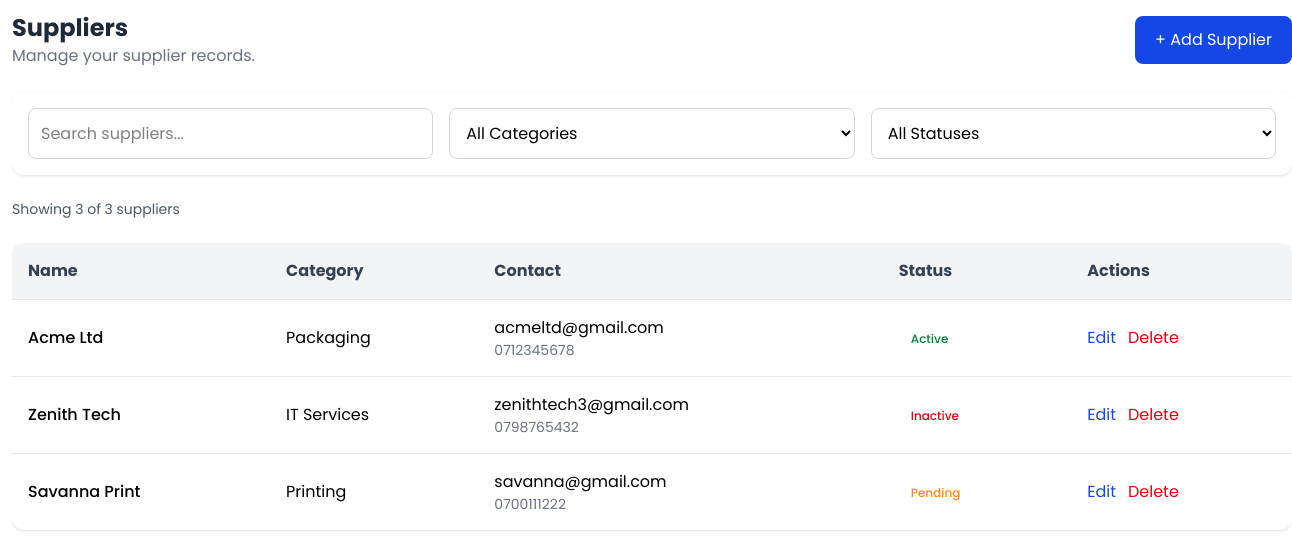
it: Suppliers Page › searches suppliers by email
The width and height of the screenshot is (1292, 548).
Type "zenithtech3@gmail.com" into the search field labelled "Search suppliers..." at point(231, 134), box [28,108,433,159]
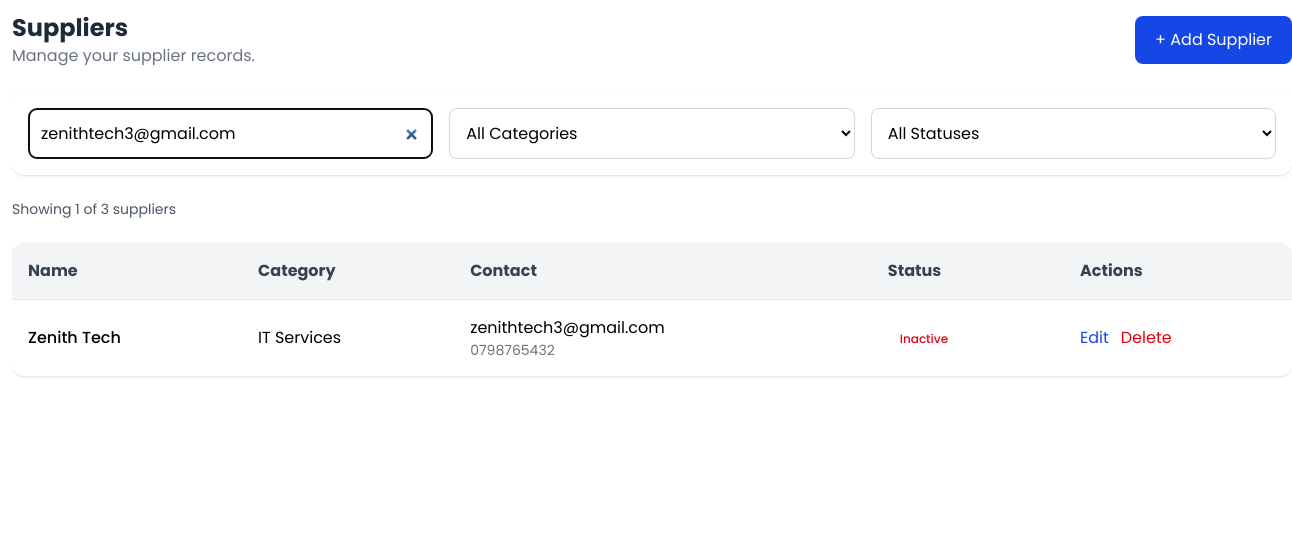
Expected: the text "Zenith Tech" is shown, [12,300,242,376]
Expected: the text "Acme Ltd" is gone
